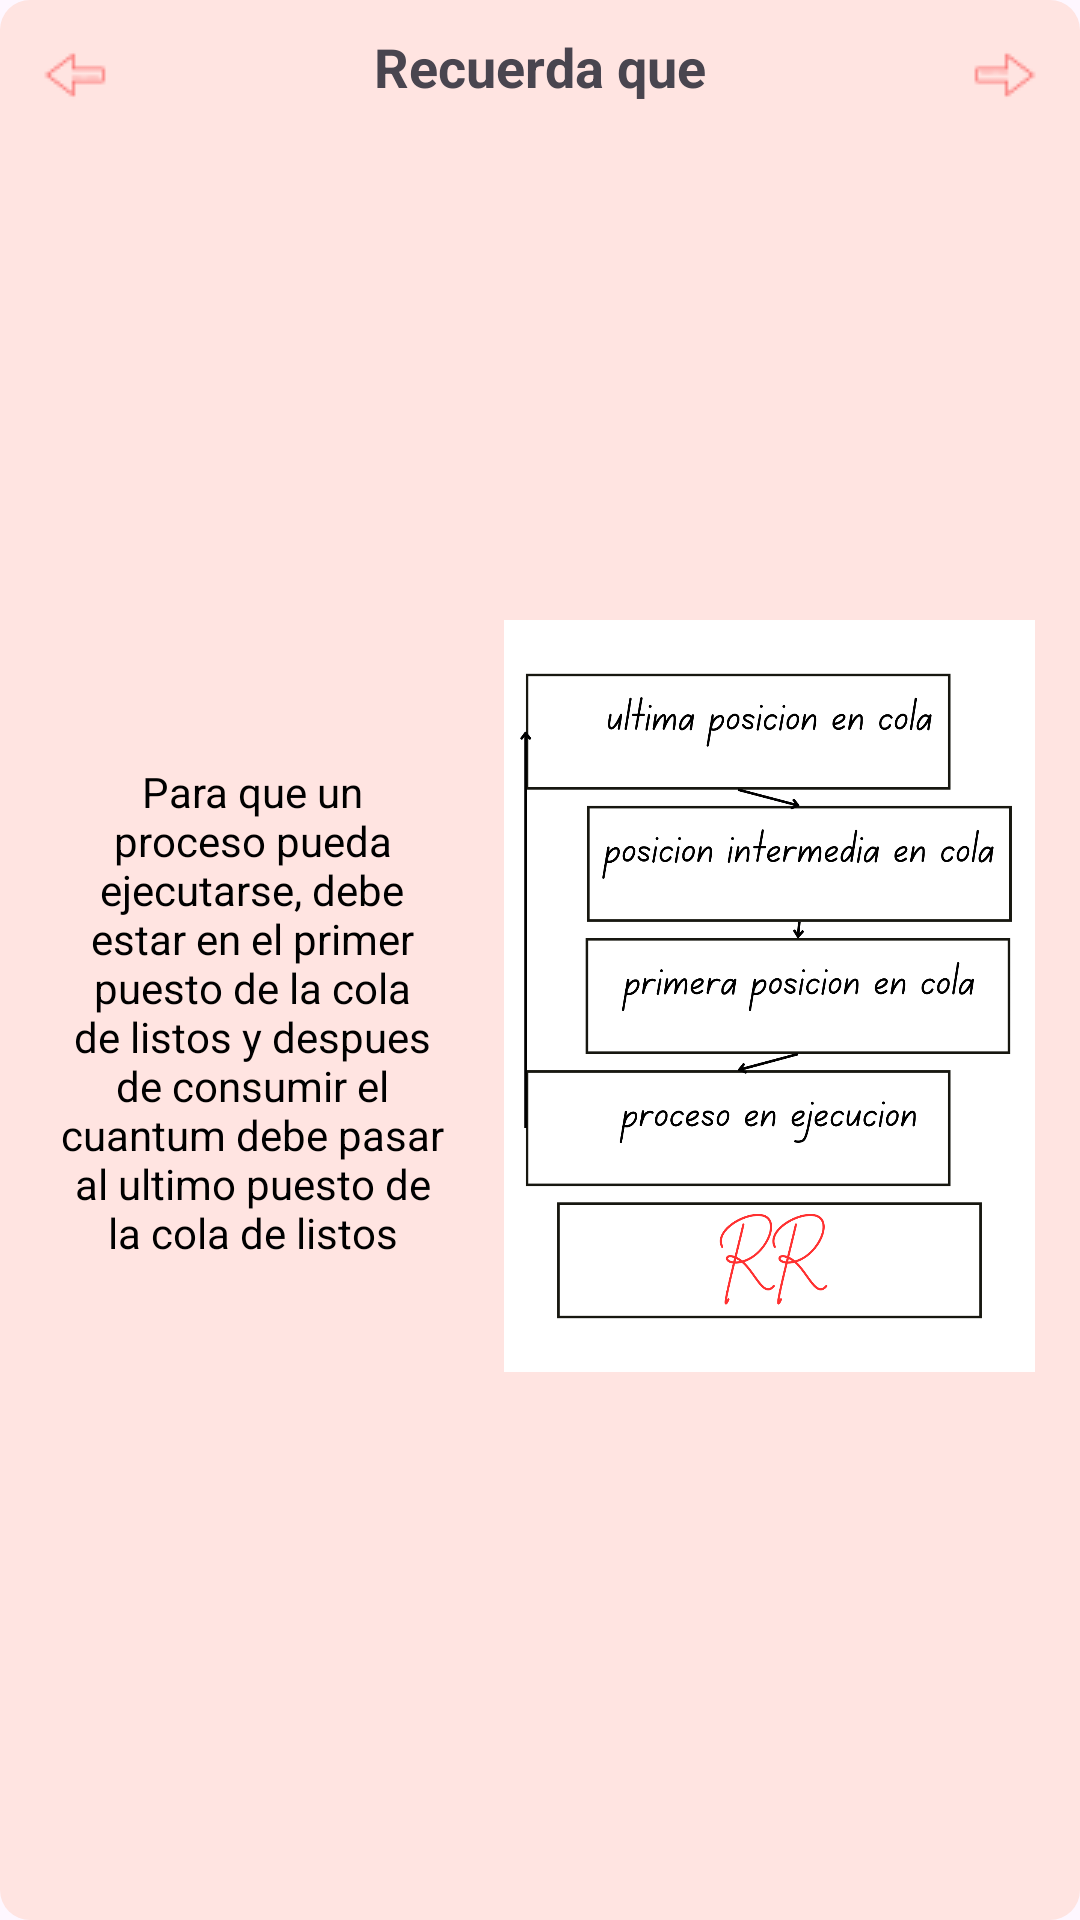

Locate icon controls on the screen. Image size 1080w x 1920h, boxes as (x1, y1, x2, y2).
flecha adelante: (974, 53, 1035, 97)
flecha atras: (45, 53, 106, 97)
